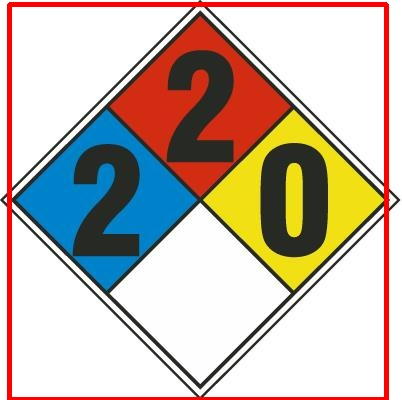nfpa: (9, 4, 386, 399)
